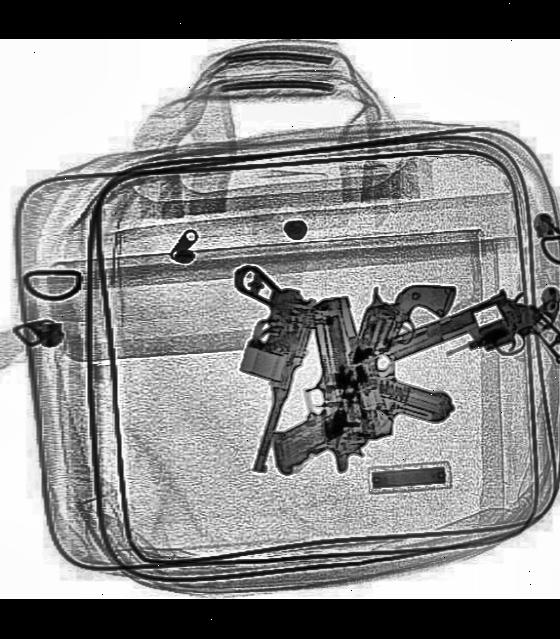Gun: (180, 262, 326, 477), (236, 292, 391, 487), (377, 270, 560, 417), (323, 268, 454, 470), (319, 276, 456, 444)
